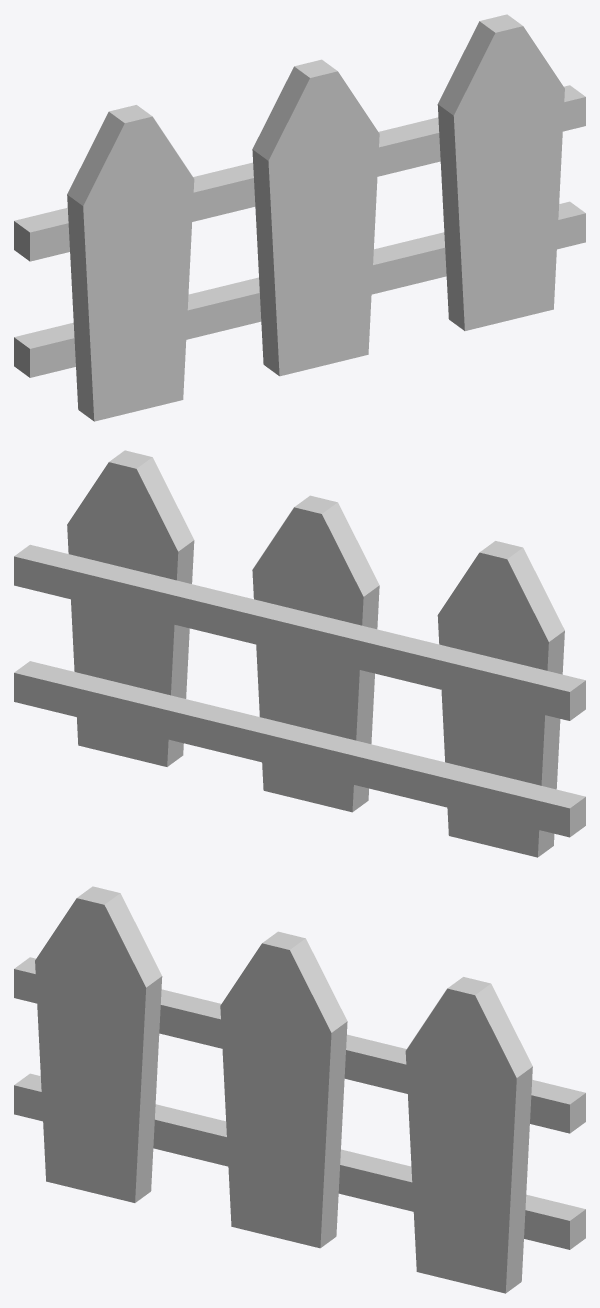
Rendered from Fence01.fbx.
The picture shows the model from 3 angles, top to bottom: view 1: azimuth 30°, elevation 25°; view 2: azimuth 150°, elevation 25°; view 3: azimuth 330°, elevation 25°; orthographic projection.
Visible parts, largest first — view 1: Fence01; view 2: Fence01; view 3: Fence01.
Boxes of the visible parts, x1=… form: Fence01: x1=14, y1=14, x2=585, y2=421; Fence01: x1=14, y1=450, x2=585, y2=857; Fence01: x1=14, y1=886, x2=585, y2=1293.
Bounding box in the file's own units: 2 × 1 × 0.2.
